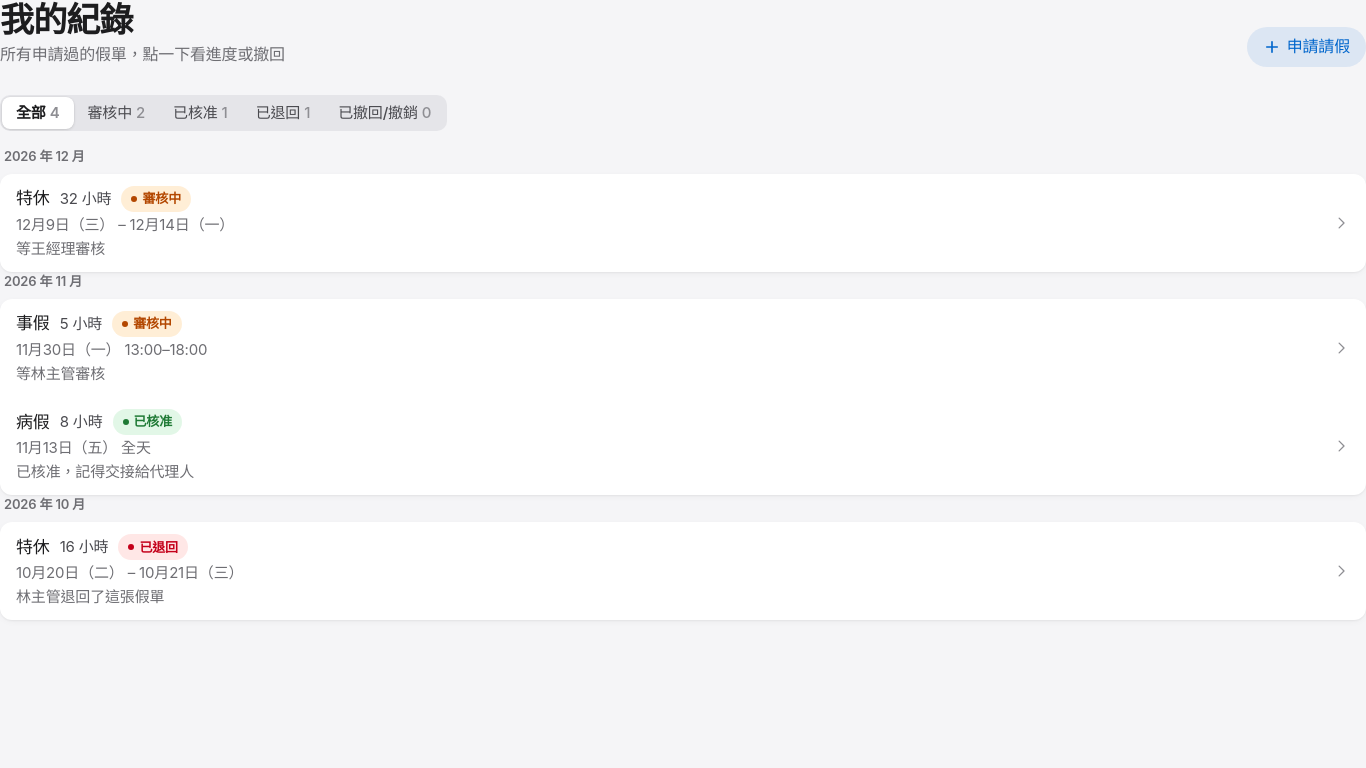
Scenario: RecordsPage › withdraws a pending request
expect the heading "我的紀錄" is shown: met, box [0,0,133,40]
Click the button "事假 5 小時 審核中 11月30日（一） 13:00–18:00 等林主管審核": (33, 323) [0,299,1365,397]
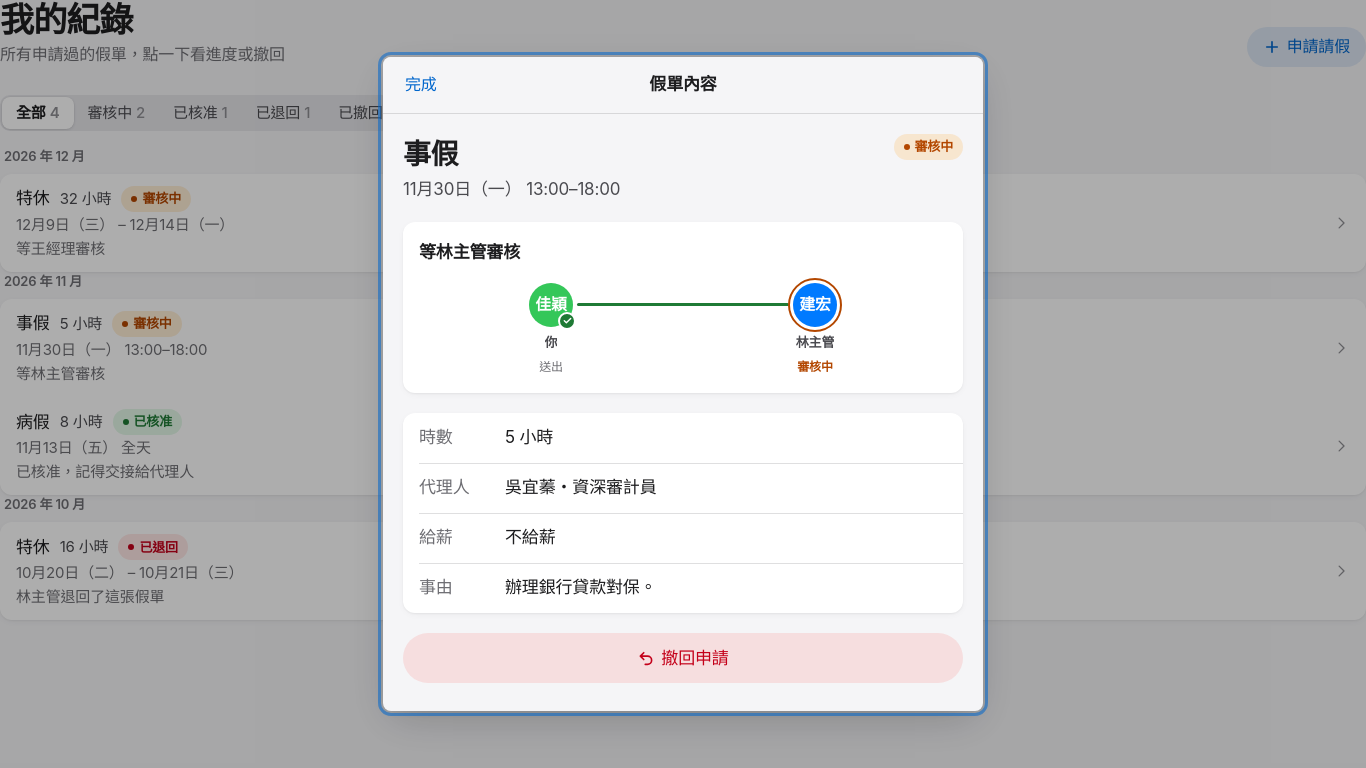
Click the button "撤回申請": (683, 658) [403,633,963,683]
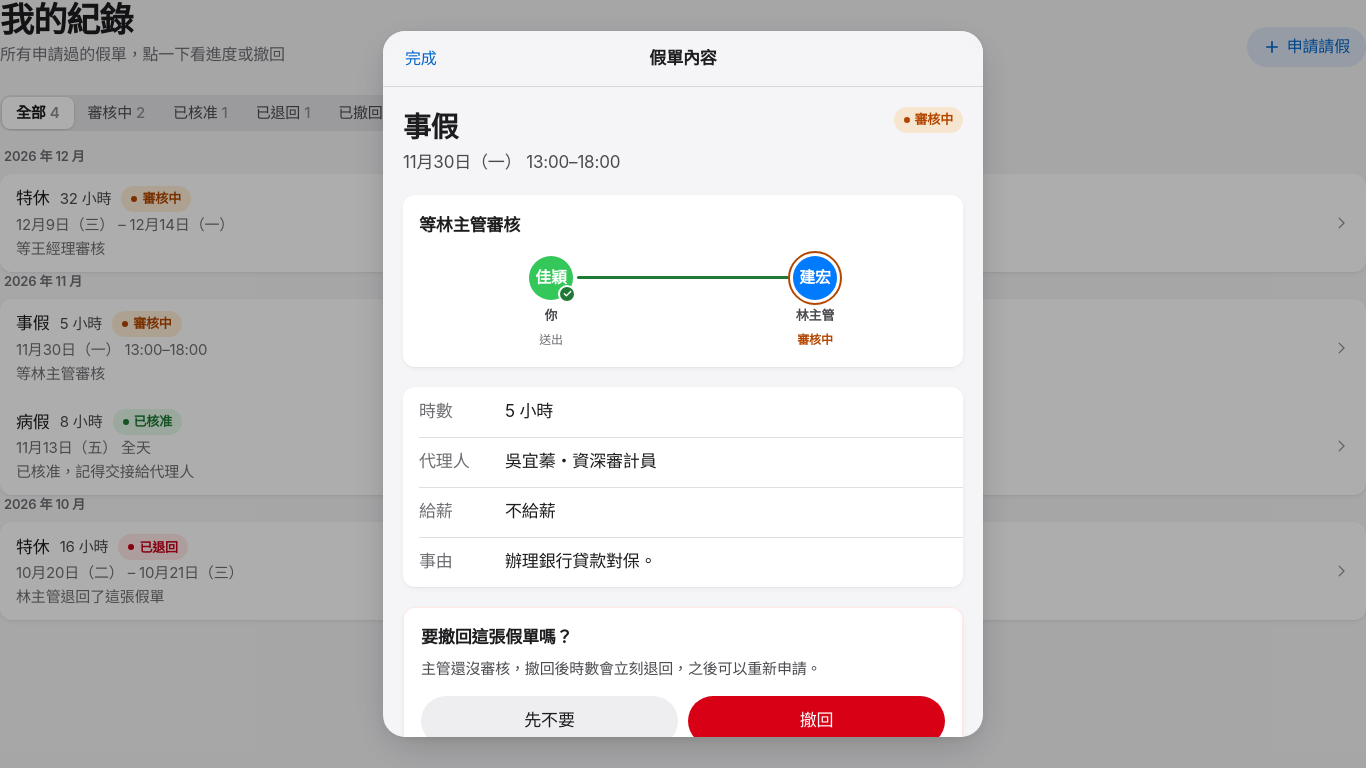
Click the button "撤回": (816, 721) [688,696,945,746]
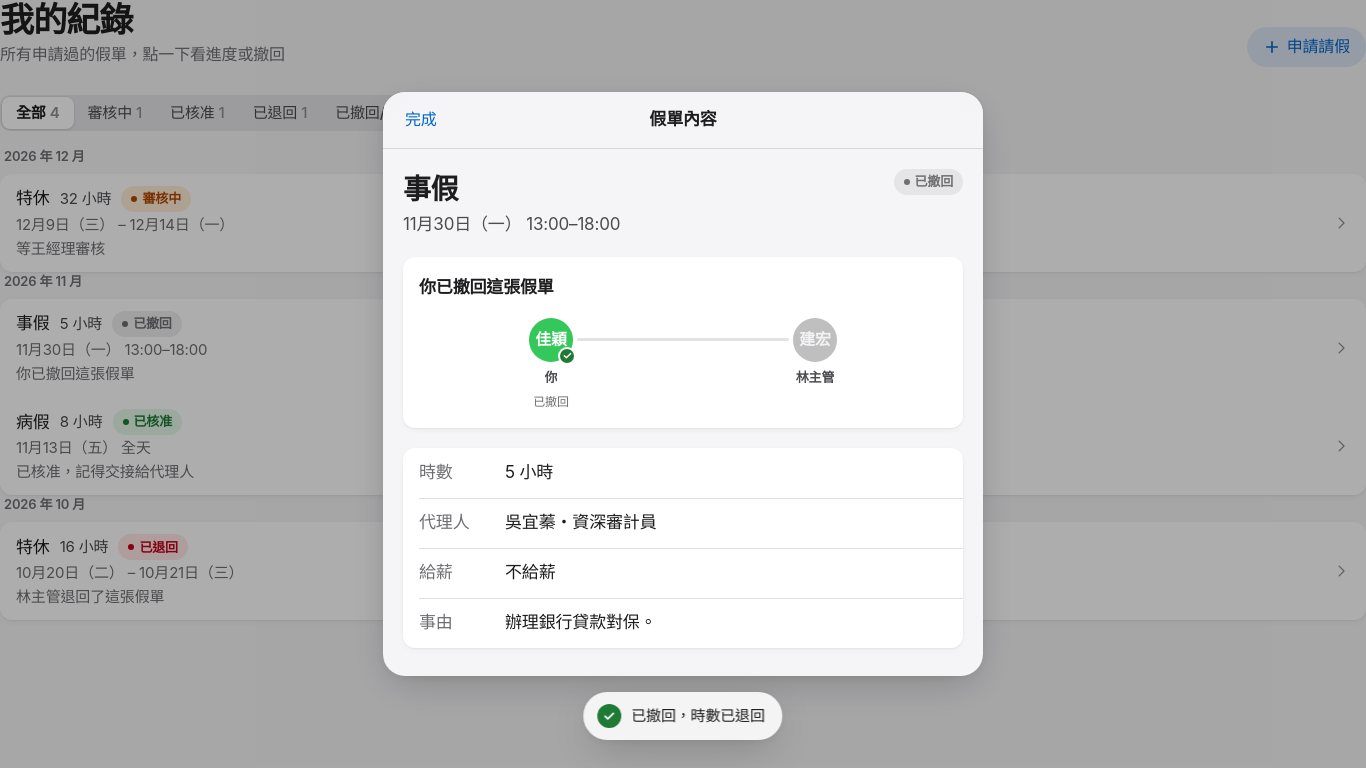
expect the button "撤回申請" is not shown: met
expect the 1st text "已撤回" is shown: met, box [894,169,963,195]
